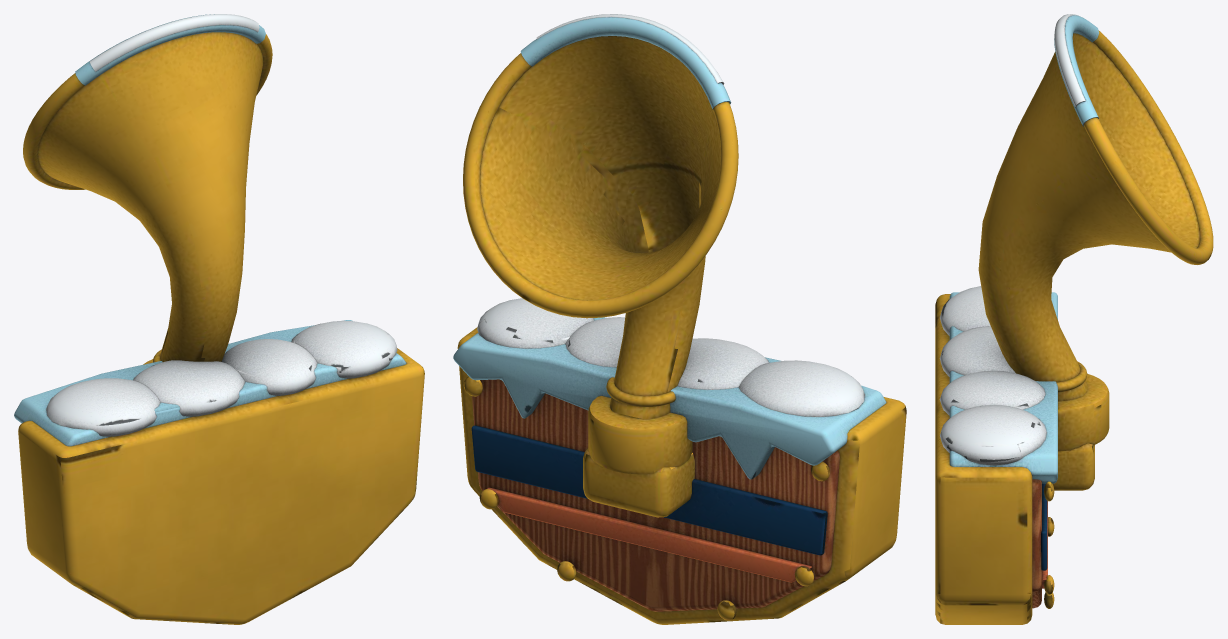
3 renders of one model, left to right at view 1: azimuth 30°, elevation 25°; view 2: azimuth 150°, elevation 25°; view 3: azimuth 270°, elevation 25°, orthographic. The views are drawn at different scales.
Parts seen in each view (by area): view 1: Polished_warm_brass, Soft_frosted_snow, Translucent_polar_ice; view 2: Polished_warm_brass, Warm_lacquered_timber, Translucent_polar_ice, Soft_frosted_snow, Navy_lacquer, Coral_lacquer; view 3: Polished_warm_brass, Soft_frosted_snow, Translucent_polar_ice, Warm_lacquered_timber, Navy_lacquer.
Part boxes in pixels (x1,y1,x2,y2): Polished_warm_brass: (18, 32, 424, 624); Soft_frosted_snow: (46, 14, 397, 436); Translucent_polar_ice: (14, 14, 406, 446); Polished_warm_brass: (457, 36, 906, 624); Warm_lacquered_timber: (472, 379, 839, 611); Translucent_polar_ice: (453, 17, 886, 479); Soft_frosted_snow: (477, 14, 864, 416); Navy_lacquer: (471, 425, 827, 555); Coral_lacquer: (487, 487, 811, 582); Polished_warm_brass: (935, 30, 1213, 624); Soft_frosted_snow: (939, 14, 1085, 465); Translucent_polar_ice: (949, 15, 1098, 483); Warm_lacquered_timber: (1032, 479, 1041, 608); Navy_lacquer: (1041, 483, 1047, 570).
Size of the model in its own units: 1.51 by 2.22 by 0.9753.
Materials: 6 (6 with a texture image).
